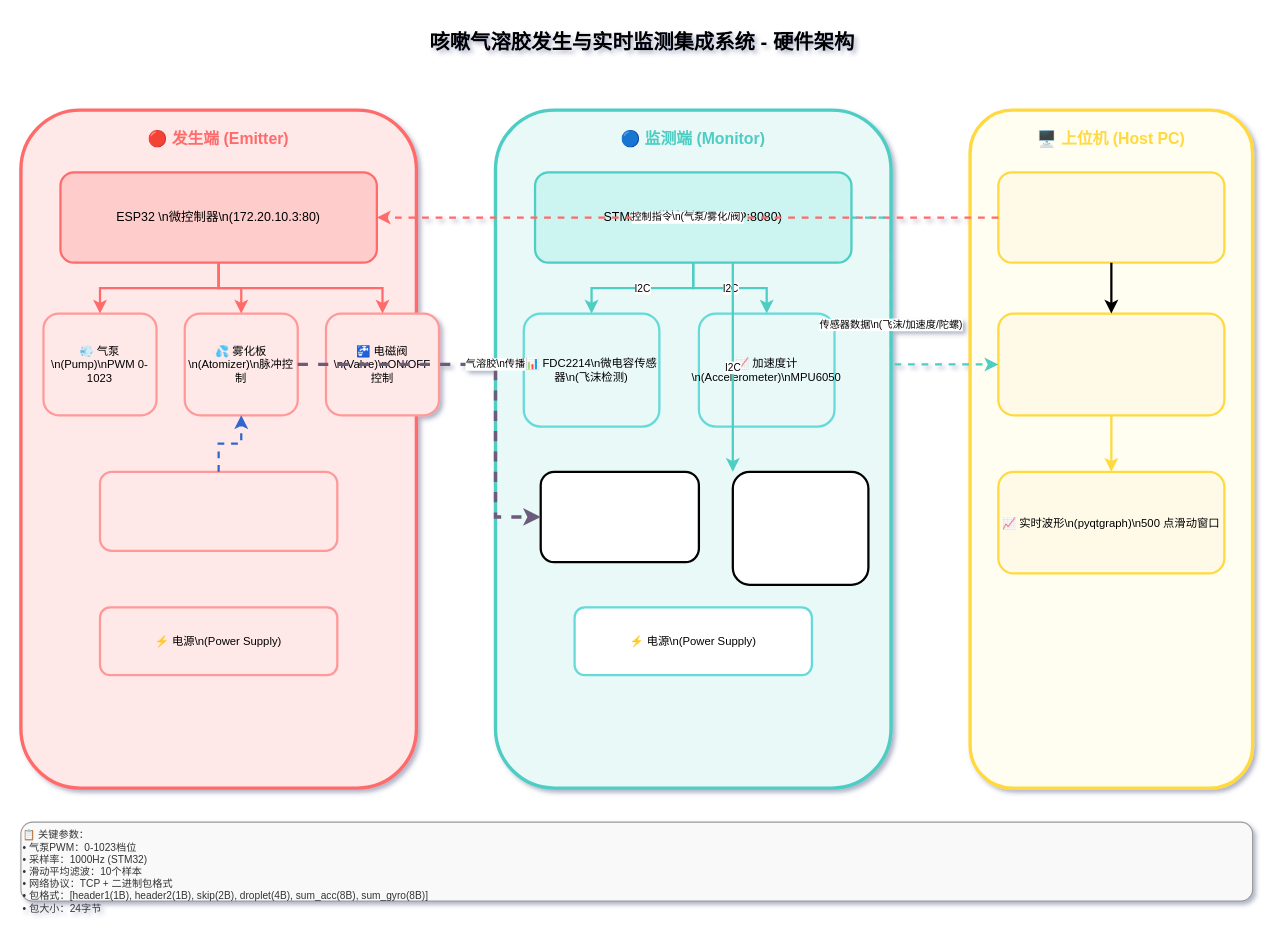
The diagram is 1280 pixels wide and 941 high, and some of its shapes have lost their labels. Each missing label, with the centre of its shape:
🌀 陀螺仪\n(Gyroscope)\nMPU6050: pixel 800 527
💨 气溶胶传播路径: pixel 619 516
📡 TCP Server\n(Port 8080)\n数据接收线程: pixel 1111 364
📦 液体储存\n(Liquid Reservoir): pixel 218 510
🔬 PyQt6 GUI\n控制界面\n(main3.py): pixel 1111 217
